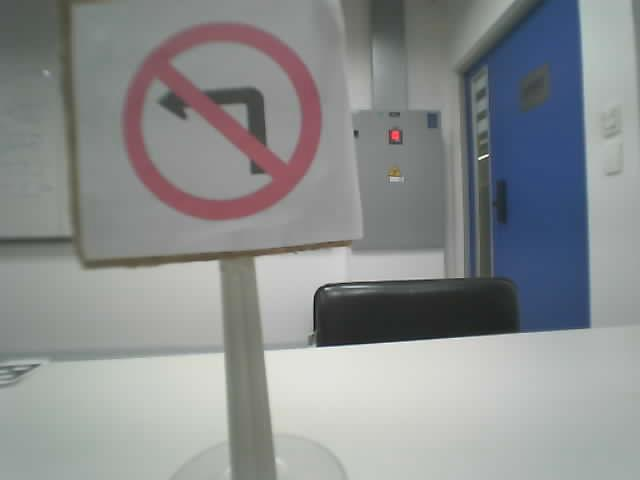R-4a_proibido-esquerda: (121, 21, 321, 218)
